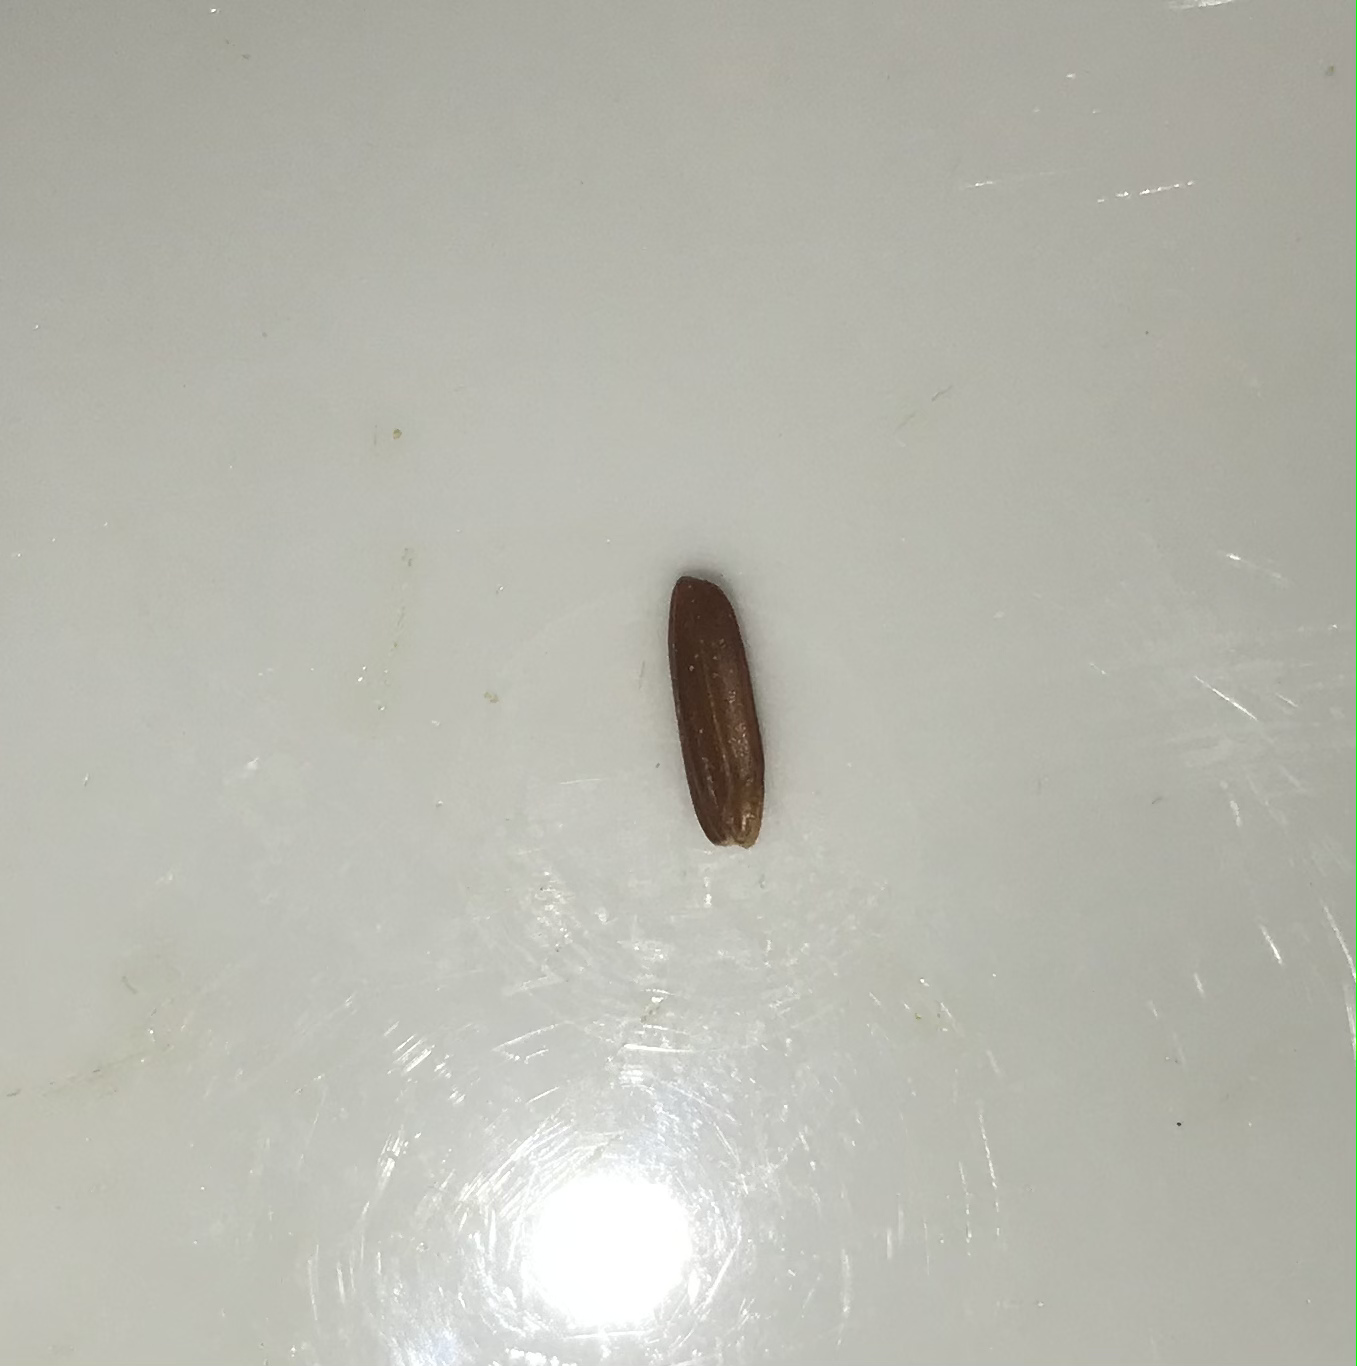Gao Lut Do: (636, 552, 813, 874)
